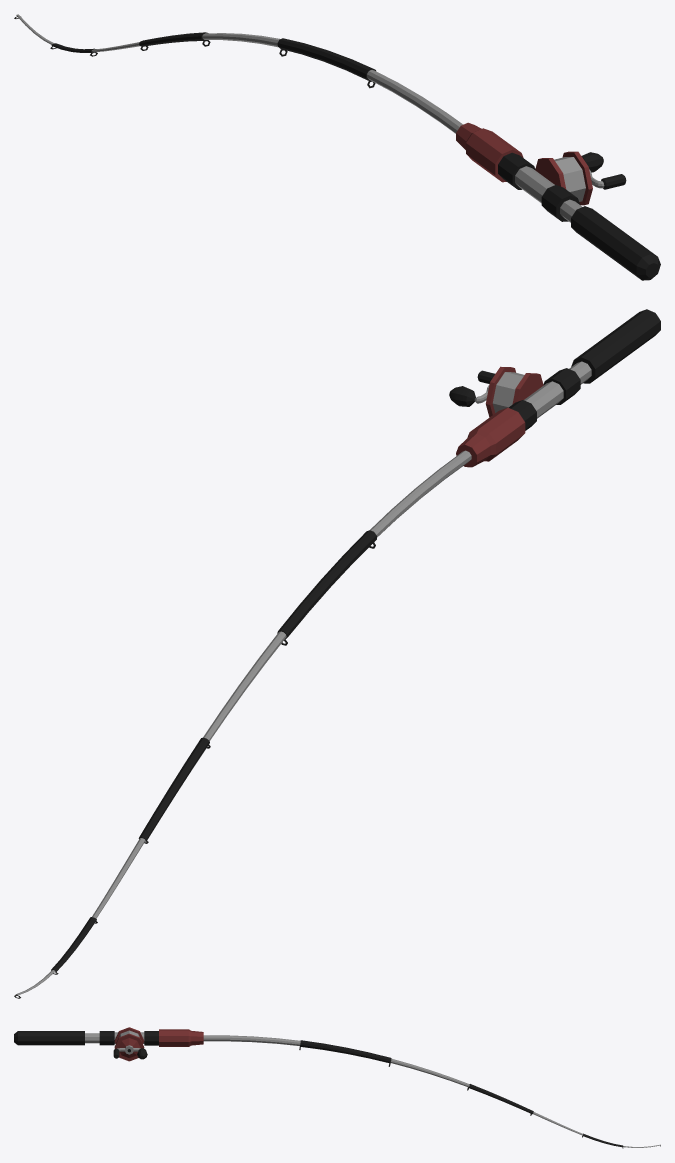
The model's file is WE01_FishingRod_Animated.fbx.
The picture shows the model from 3 angles, top to bottom: view 1: azimuth 30°, elevation 25°; view 2: azimuth 150°, elevation 25°; view 3: azimuth 270°, elevation 25°; orthographic projection. The views are drawn at different scales.
Parts seen in each view (by area): view 1: Reel1, Handle; view 2: Reel1; view 3: Reel1, Handle.
Boxes of the visible parts, left/top/right/bottom form: Reel1: left=14, top=14, right=660, bottom=280; Handle: left=581, top=152, right=626, bottom=189; Reel1: left=14, top=309, right=660, bottom=998; Reel1: left=14, top=1027, right=660, bottom=1148; Handle: left=113, top=1048, right=147, bottom=1059.
Bounding box in the file's own units: 0.7533 × 1.93 × 9.16.
